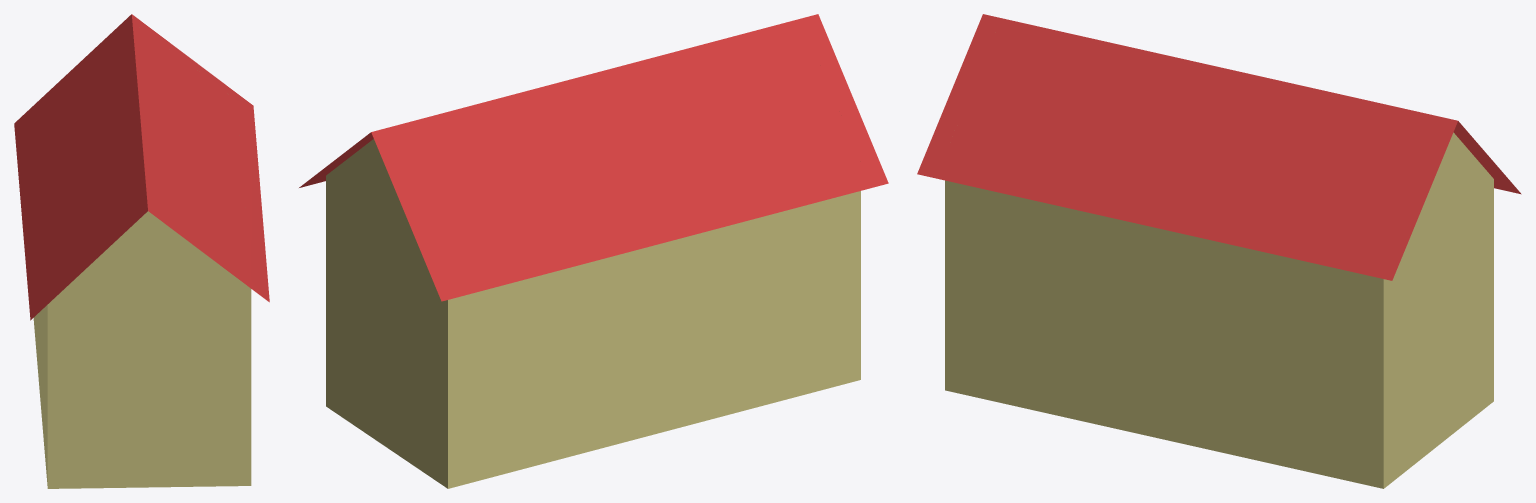
3 renders of one model, left to right at view 1: azimuth 30°, elevation 25°; view 2: azimuth 150°, elevation 25°; view 3: azimuth 270°, elevation 25°, orthographic. The views are drawn at different scales.
Bounding box in the file's own units: 12.01 × 14.63 × 8.74.
